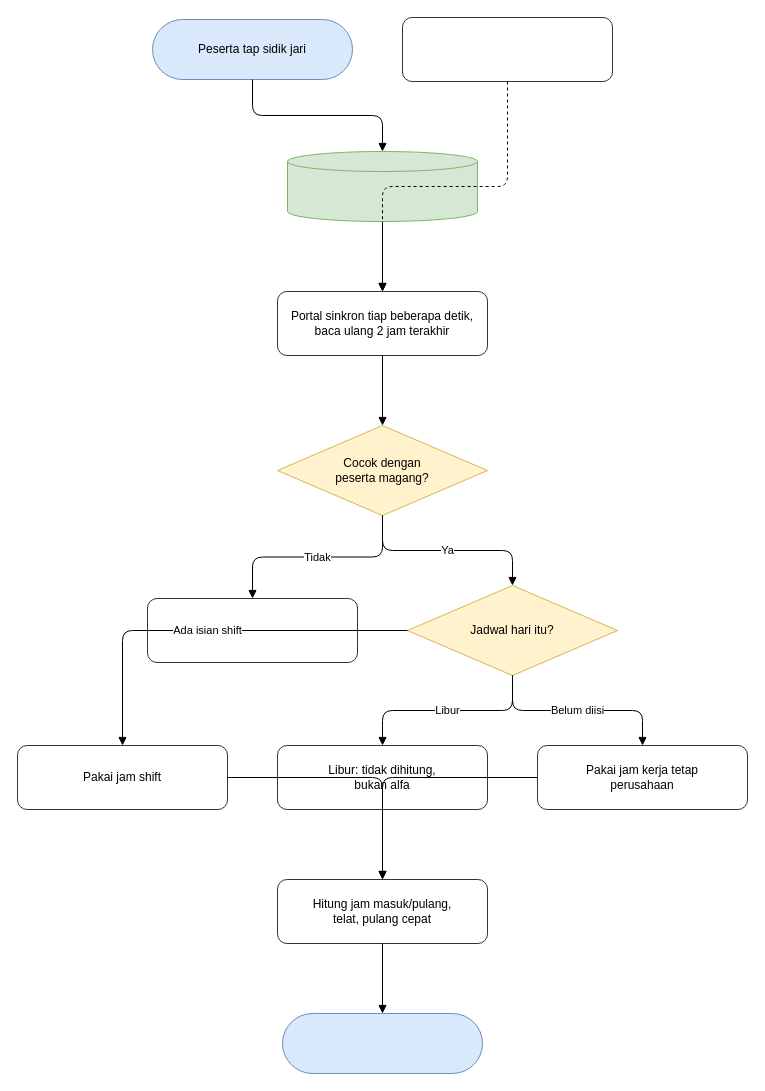
Some shapes in this 765 by 1091 pixel diagram are drawn without their labels. Each missing label, with the centre of its shape:
"Dicatat di log; admin melengkapi data" goes at point (252, 630).
"Rekap presensi di portal (+ daftar izin disetujui)" goes at point (382, 1043).
"Sinkron ulang penuh kemarin & hari ini tiap jam" goes at point (507, 49).
"Sistem absensi HRIS (hanya dibaca)" goes at point (382, 186).
